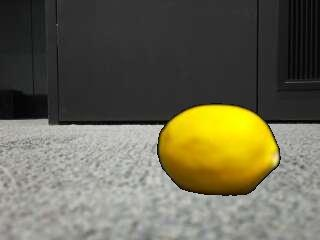lemon: (161, 104, 281, 194)
